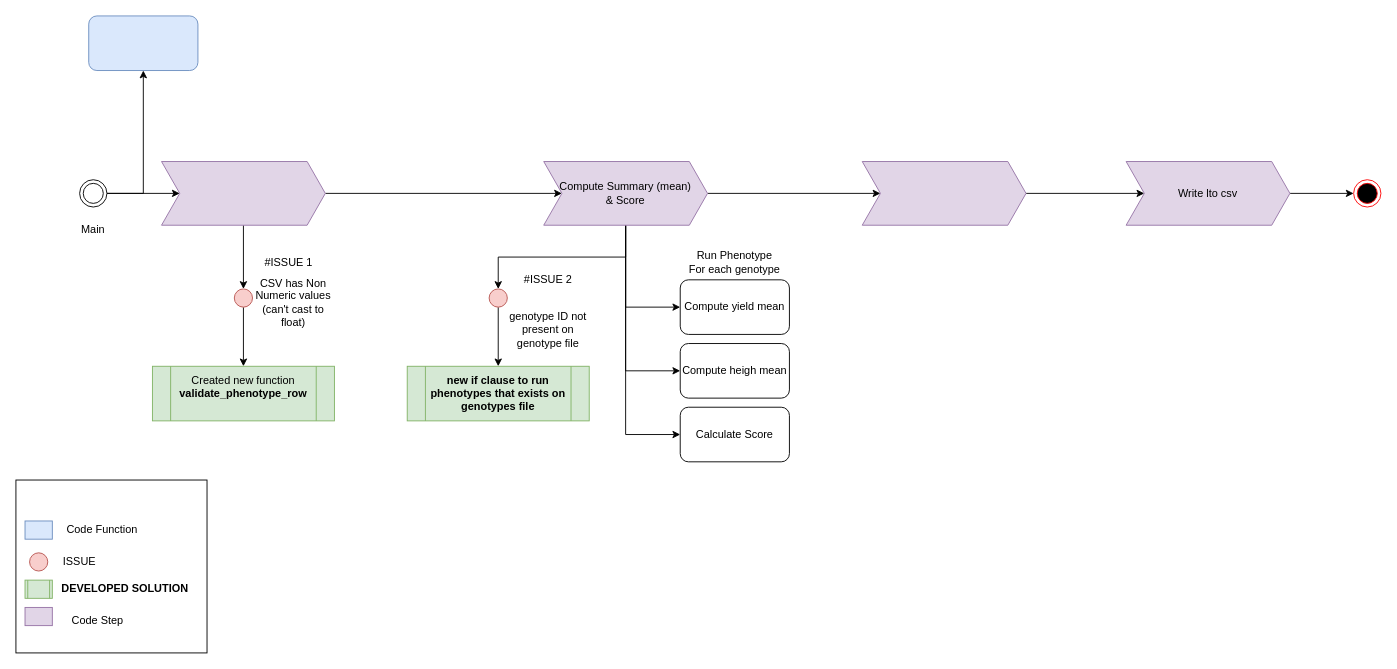
Image size: 1397x669. Some labels were removed from this diagram. Here are the shapes that lost their labels. From the top down, the box of each, then its label:
(88, 15, 198, 71): load_genotypes
(161, 161, 325, 225): Read Phenotypes (csv tows to py array) from DATA_DIR
(861, 161, 1026, 225): Order by score
(15, 479, 207, 653): Legend
